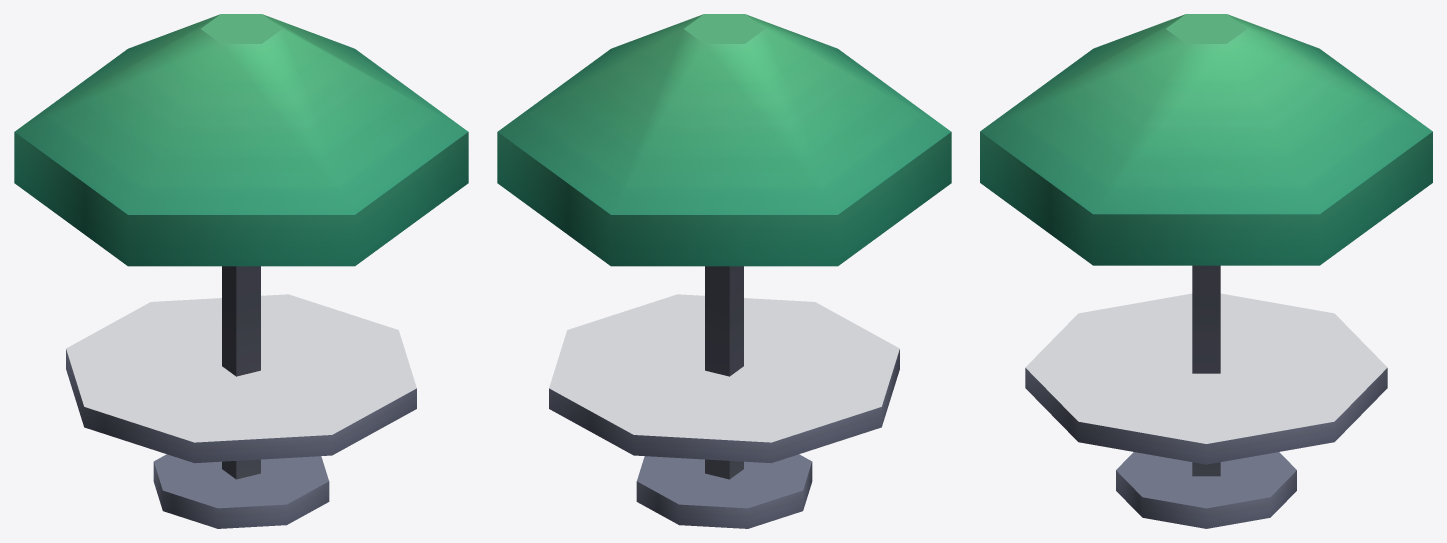
Rendered from parasol.glb.
3 views of the same model, side by side, from view 1: azimuth 30°, elevation 25°; view 2: azimuth 150°, elevation 25°; view 3: azimuth 270°, elevation 25° (orthographic).
Visible parts, largest first — view 1: detail-parasol-a; view 2: detail-parasol-a; view 3: detail-parasol-a.
Part boxes in pixels (x1,y1,x2,y2): detail-parasol-a: [14, 14, 468, 528]; detail-parasol-a: [497, 14, 951, 528]; detail-parasol-a: [980, 14, 1432, 528].
Size of the model in its own units: 2.77 by 3.6 by 3.2.
1 material, 1 textured.
